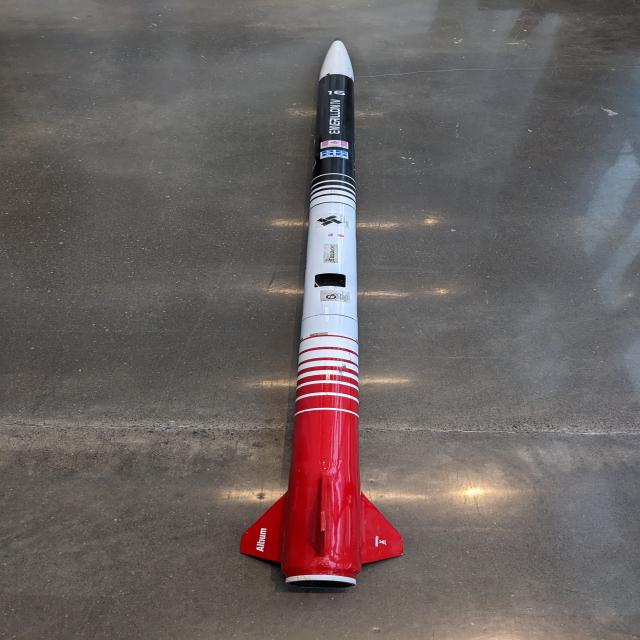Rocket: (240, 38, 405, 589)
